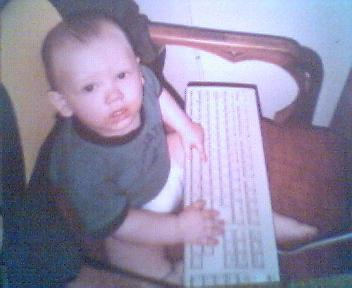person: (42, 8, 229, 287)
